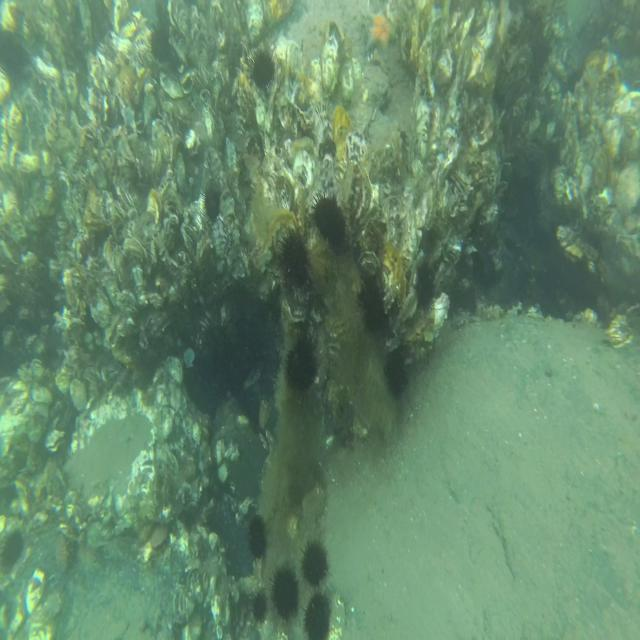echinus: (311, 187, 349, 255), (284, 328, 320, 399), (277, 227, 311, 291), (270, 556, 301, 625), (299, 533, 330, 588), (304, 591, 335, 640), (383, 352, 411, 406), (247, 47, 278, 94), (1, 526, 26, 582), (244, 509, 270, 561), (146, 23, 174, 68), (200, 178, 223, 223), (250, 588, 270, 627)
starfish: (365, 4, 402, 65)
